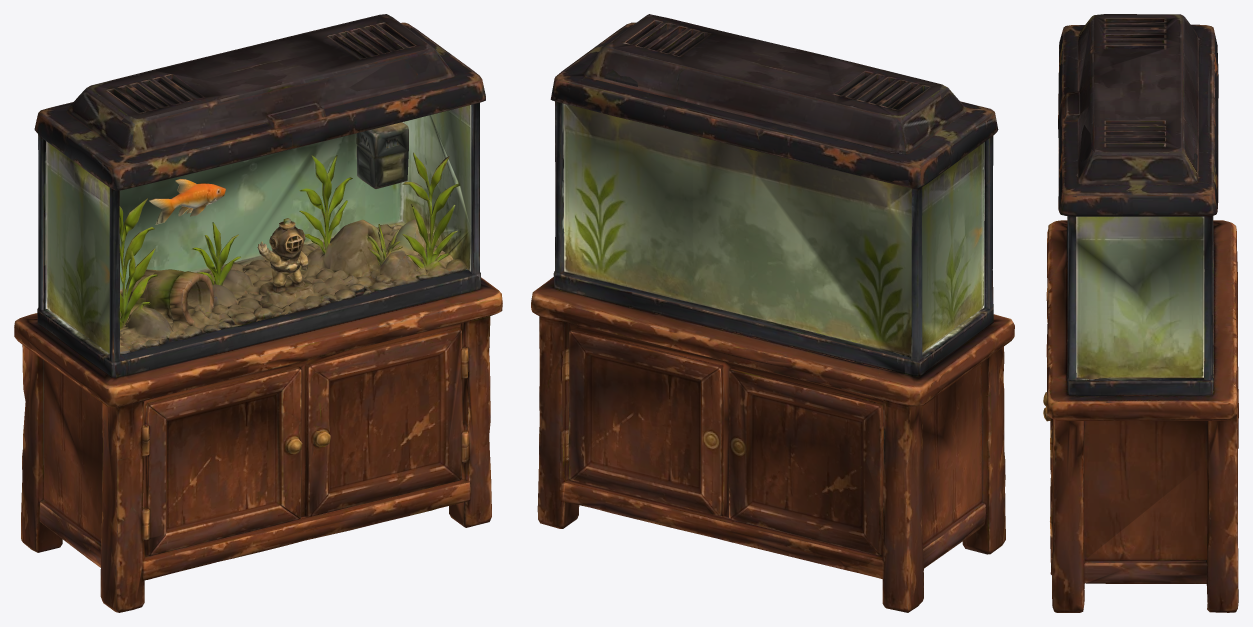
The model's file is d_aquarium.glb.
3 renders of one model, left to right at view 1: azimuth 30°, elevation 25°; view 2: azimuth 150°, elevation 25°; view 3: azimuth 270°, elevation 25°, orthographic. The views are drawn at different scales.
Bounding box in the file's own units: 1.69 × 1.9 × 0.7593.
1 material, 1 textured.
